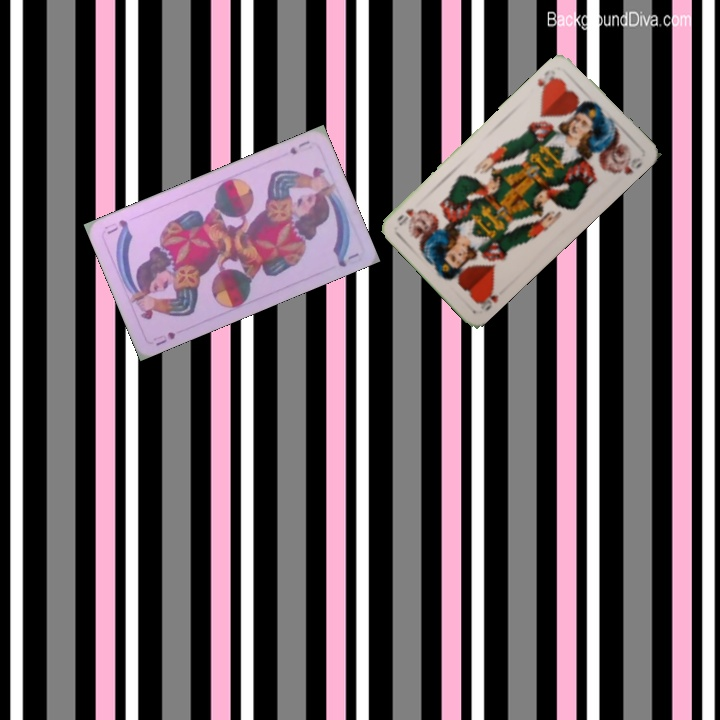HO: (533, 65, 562, 99), (473, 284, 501, 314)
SU: (151, 328, 178, 349), (286, 136, 312, 157)
